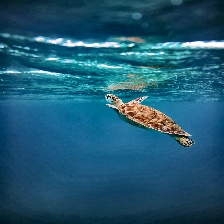seaturtle: (105, 94, 193, 148)
